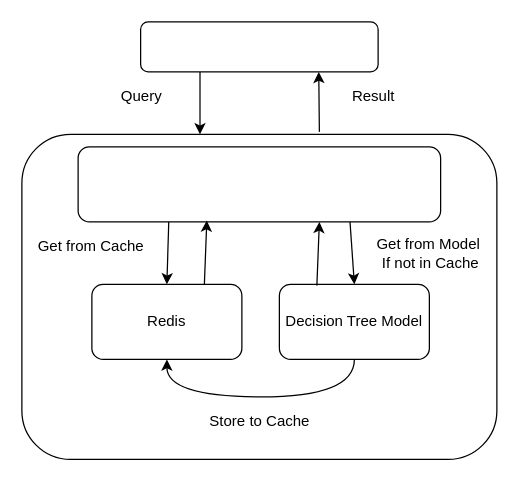
This 519x481 diagram has some shape labels left out. The shapes that lost their labels are listed below. From the top down, each one's box as (x1, y1, x2, y2) in pixels, then its label:
(139, 21, 378, 72): User Applications
(77, 146, 441, 222): gRPC Server
